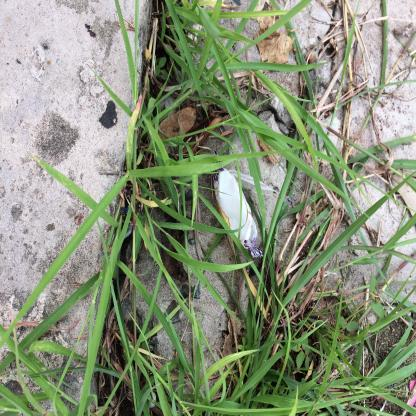trash: (116, 278, 194, 356)
